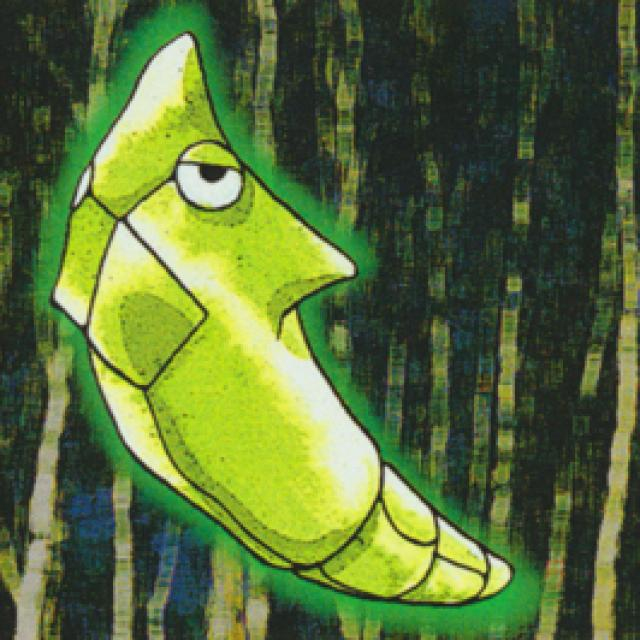Metapod: (43, 13, 425, 535)
